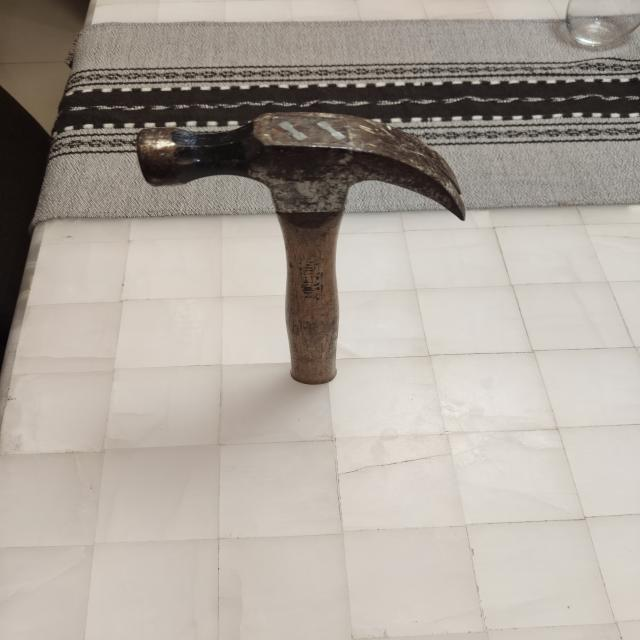Martillo: (112, 83, 523, 455)
